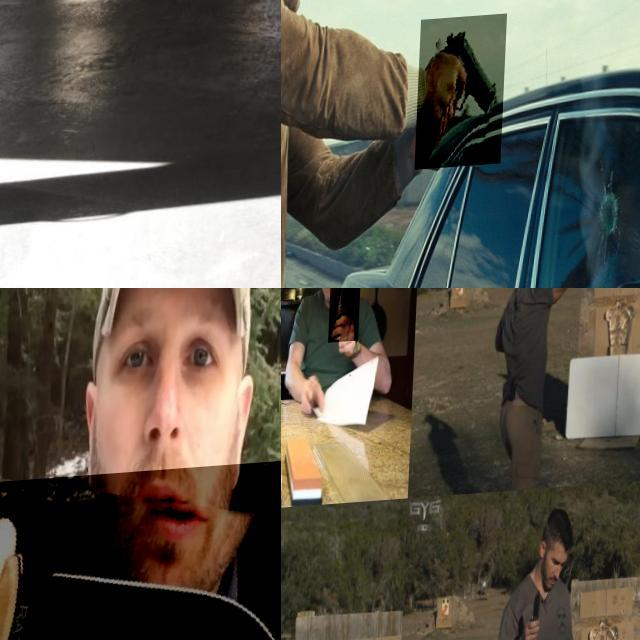-: (0, 464, 281, 640), (329, 288, 362, 346), (0, 69, 39, 112), (527, 590, 545, 640), (511, 288, 548, 310)
gun-knife-thesis - v11 Yolov5 augmented: (418, 18, 508, 174)
